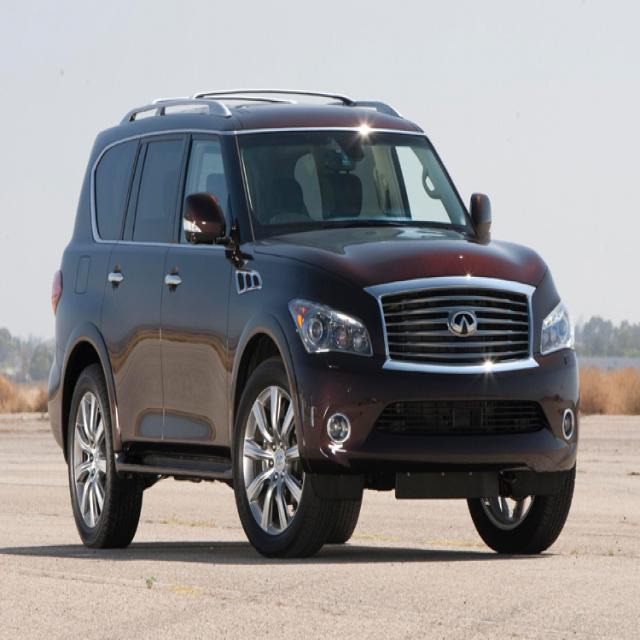Car: (29, 68, 596, 573)
